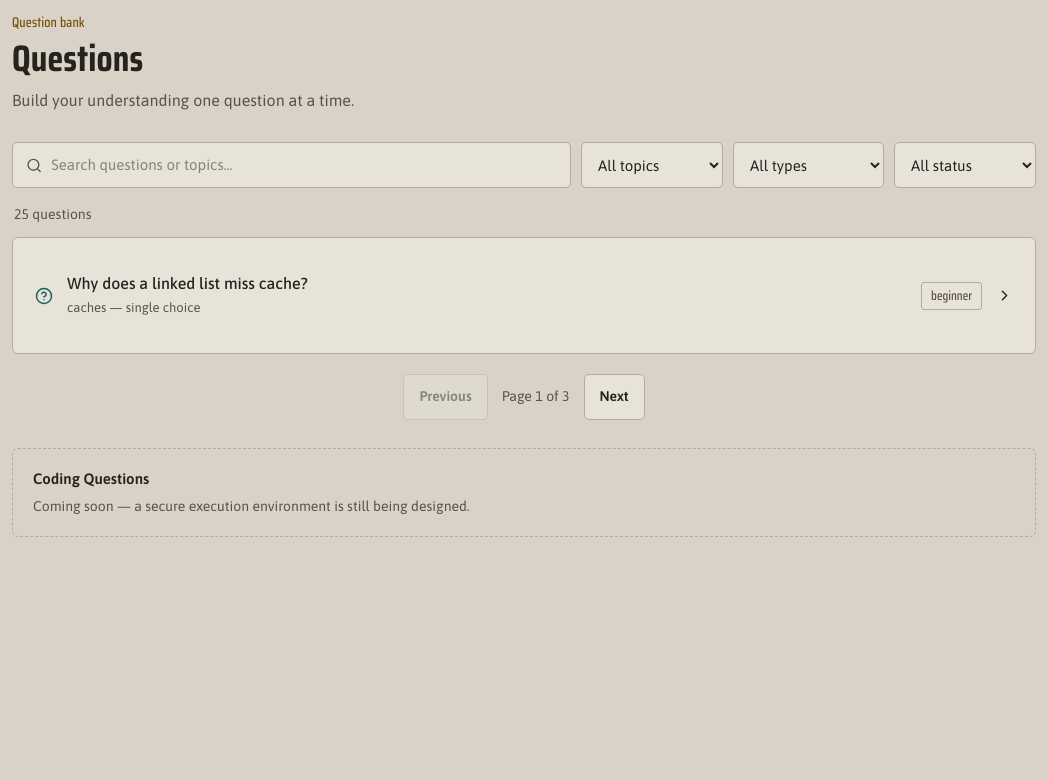
Test: QuestionsPage › paginates and resets to page 1 on a new filter
Expected: the text "Page 1 of 3" is shown, x1=502 y1=386 x2=570 y2=408
Expected: the button "Previous" is disabled, x1=403 y1=374 x2=488 y2=420
Click the button "Next". click: (614, 397)
box: x1=584 y1=374 x2=645 y2=420
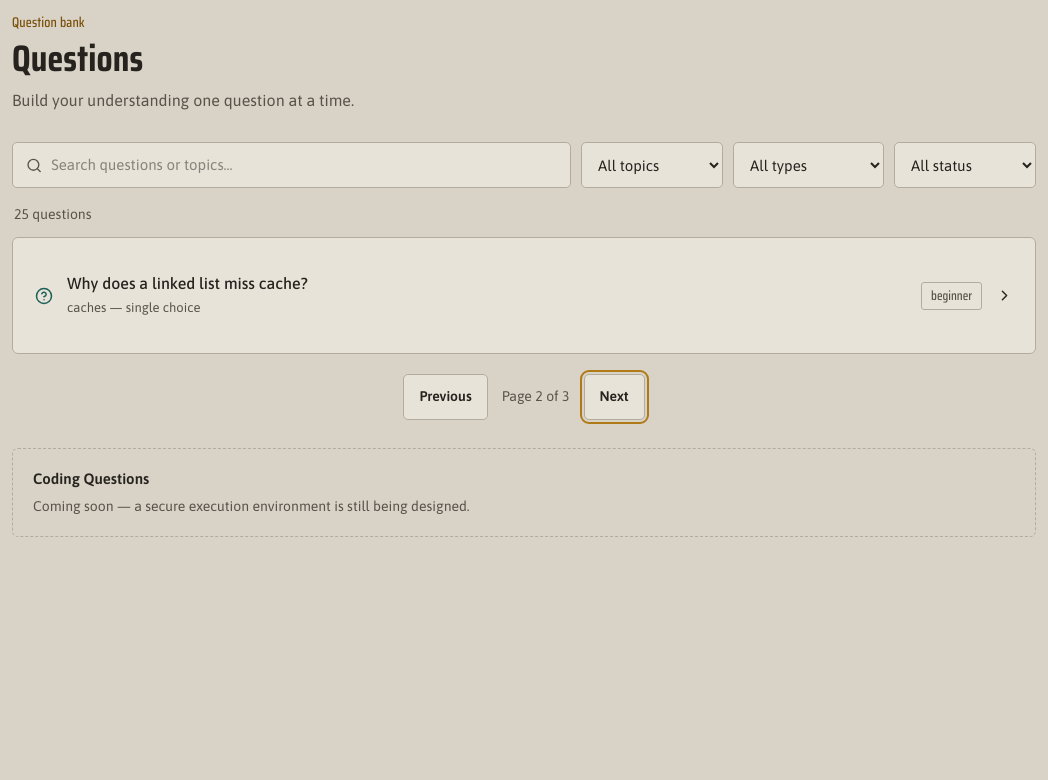
Click the button "Next". click: (614, 397)
box: x1=584 y1=374 x2=645 y2=420
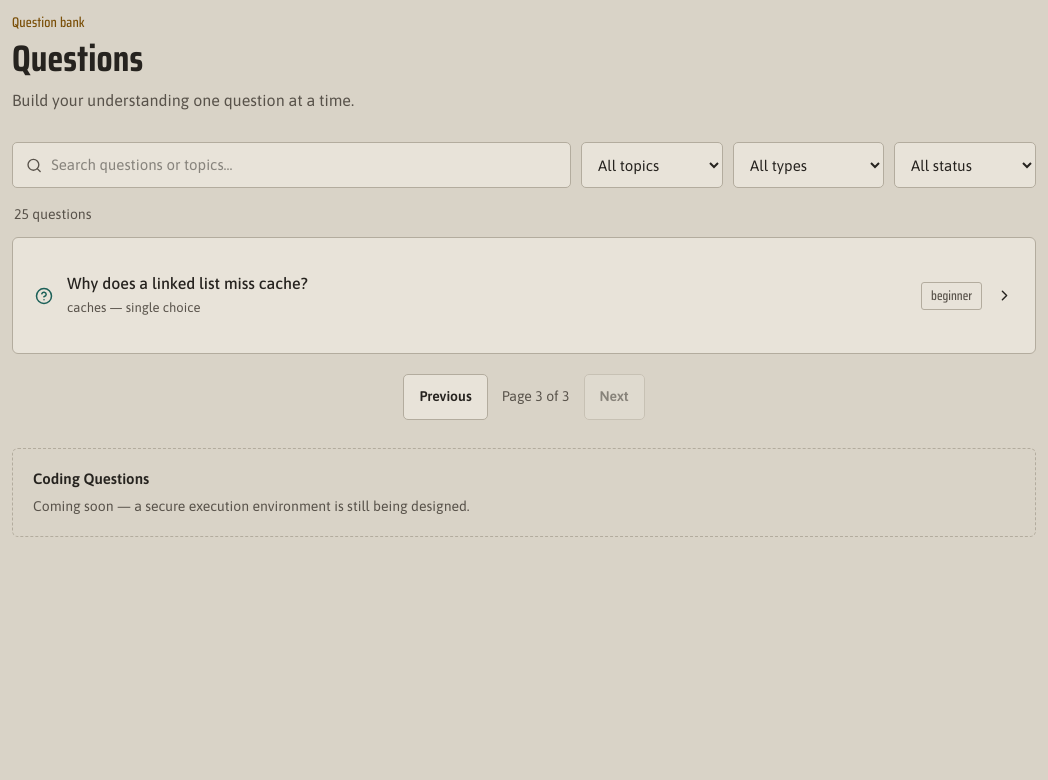
Expected: the text "Page 3 of 3" is shown, x1=502 y1=386 x2=570 y2=408
Expected: the button "Next" is disabled, x1=584 y1=374 x2=645 y2=420
Type "x" into the field with placeholder "Search questions or topics...". click: (304, 165)
box: x1=51 y1=143 x2=557 y2=187
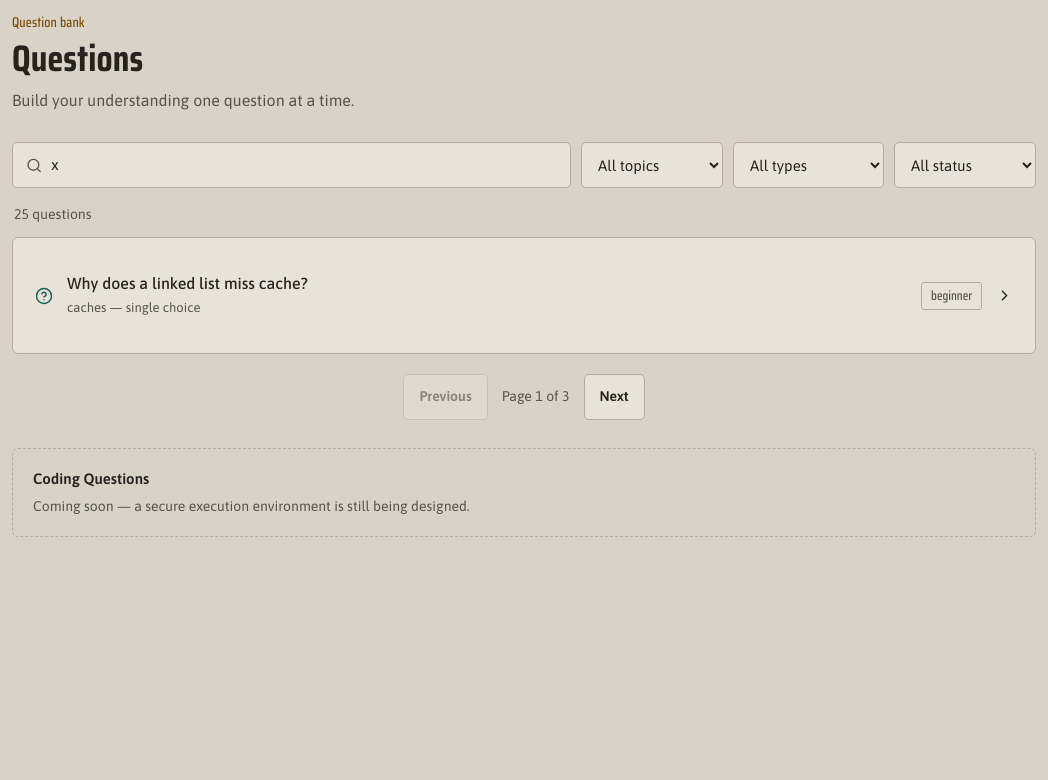
Expected: the text "Page 1 of 3" is shown, x1=502 y1=386 x2=570 y2=408
